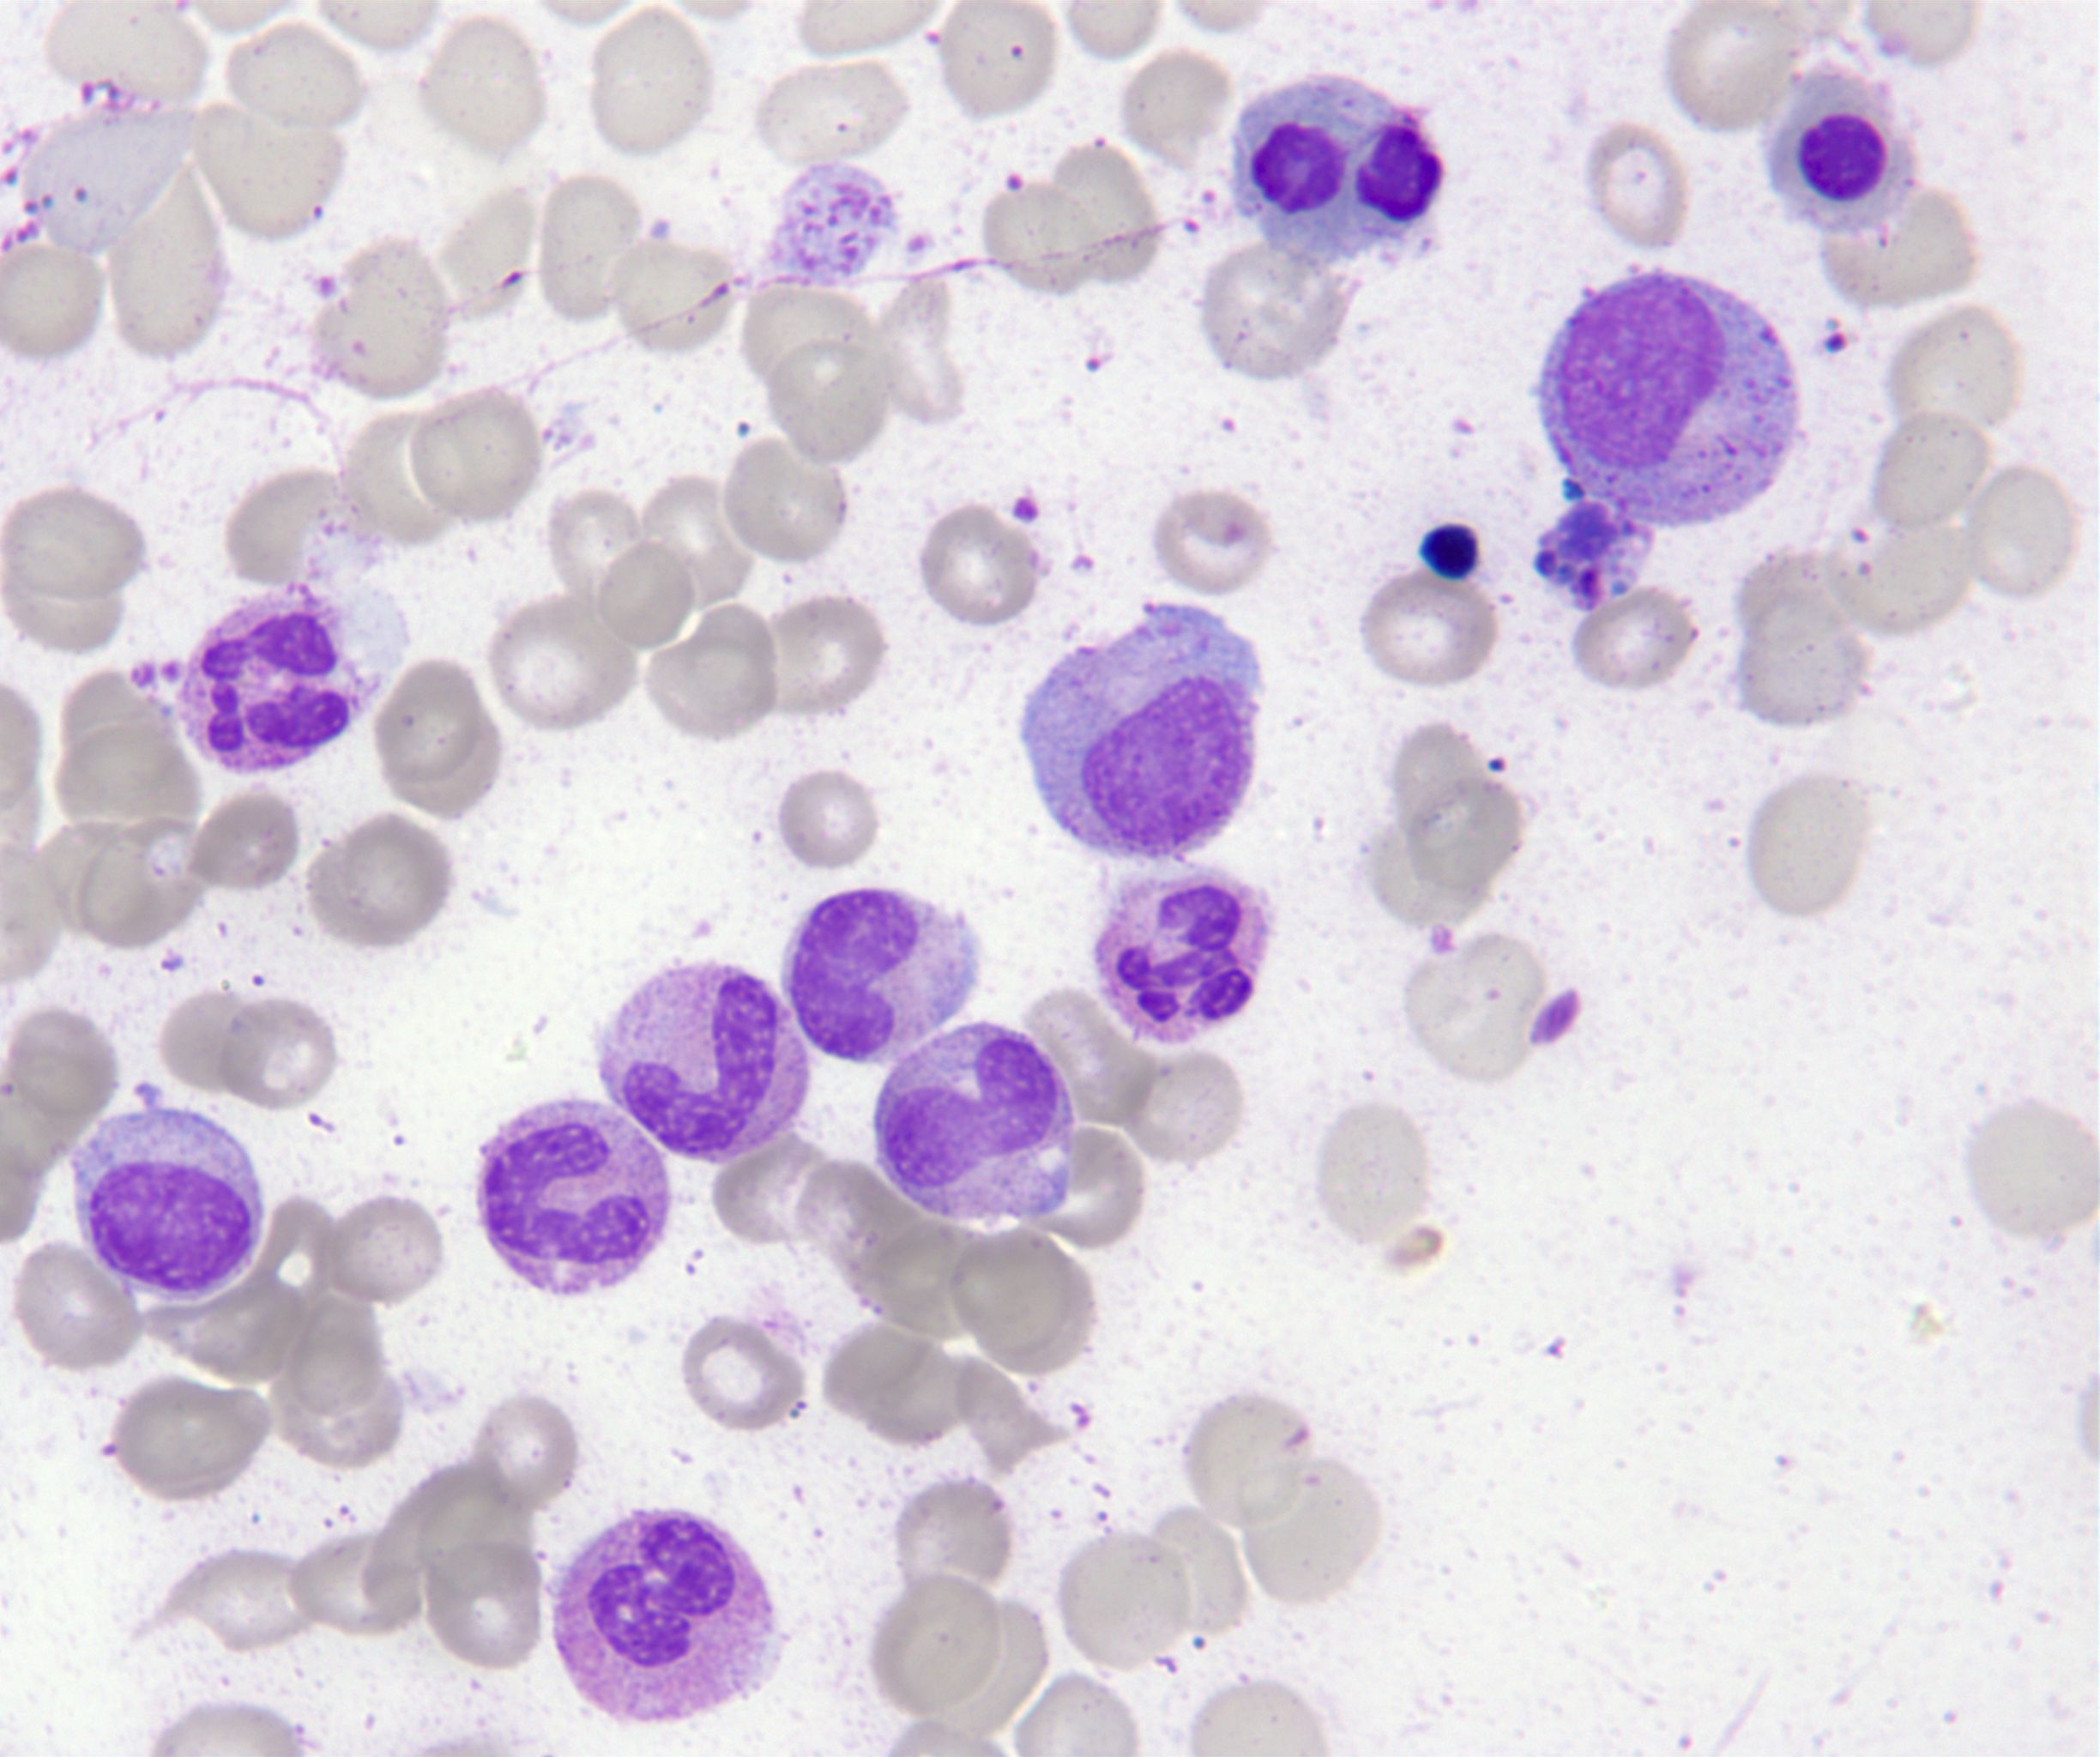24: (1767, 58, 1919, 230)
3: (1540, 272, 1800, 525), (1020, 604, 1261, 862), (70, 1111, 262, 1300)
4: (874, 1022, 1074, 1221), (783, 892, 982, 1066)
5: (597, 963, 809, 1164), (478, 1101, 670, 1295)
6: (553, 1511, 776, 1727), (171, 585, 370, 776), (1094, 864, 1273, 1047)
x: (1233, 75, 1442, 265)
